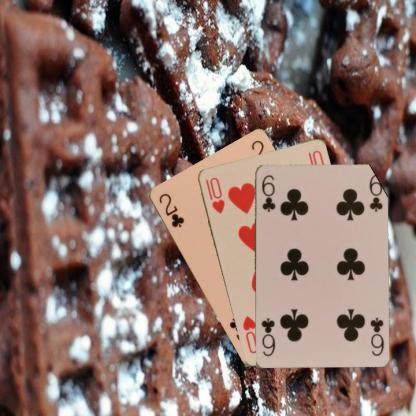10h: (202, 174, 226, 215)
2c: (156, 191, 186, 228)
6c: (367, 314, 385, 356), (259, 172, 276, 213)
